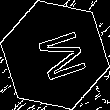M_W: (25, 25, 85, 85)
